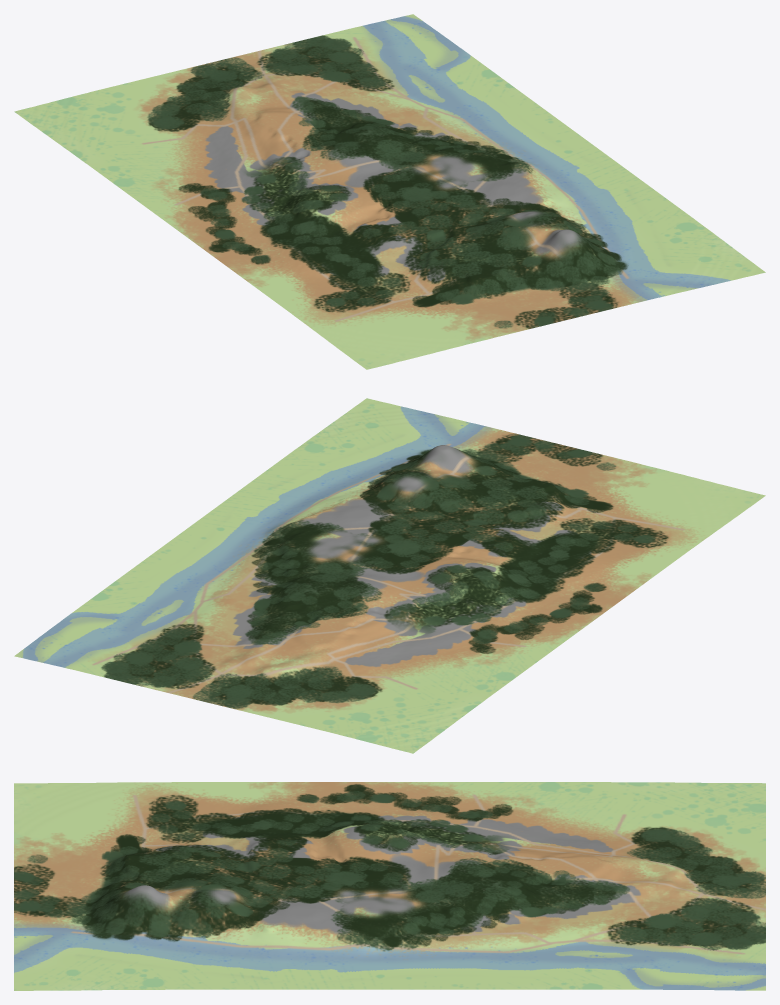
File: kuyper_1870_2.gltf
3 renders of one model, top to bottom at view 1: azimuth 30°, elevation 25°; view 2: azimuth 150°, elevation 25°; view 3: azimuth 270°, elevation 25°, orthographic. The views are drawn at different scales.
Parts seen in each view (by area): view 1: Kuyper_St_Peter_DEM_modified; view 2: Kuyper_St_Peter_DEM_modified; view 3: Kuyper_St_Peter_DEM_modified.
Part boxes in pixels (box(x1,y1,x2,y2)): Kuyper_St_Peter_DEM_modified: box(14, 14, 765, 369); Kuyper_St_Peter_DEM_modified: box(14, 398, 765, 753); Kuyper_St_Peter_DEM_modified: box(14, 782, 765, 990).
Bounding box in the file's own units: 2513 × 176 × 3846.
1 material, 1 textured.
